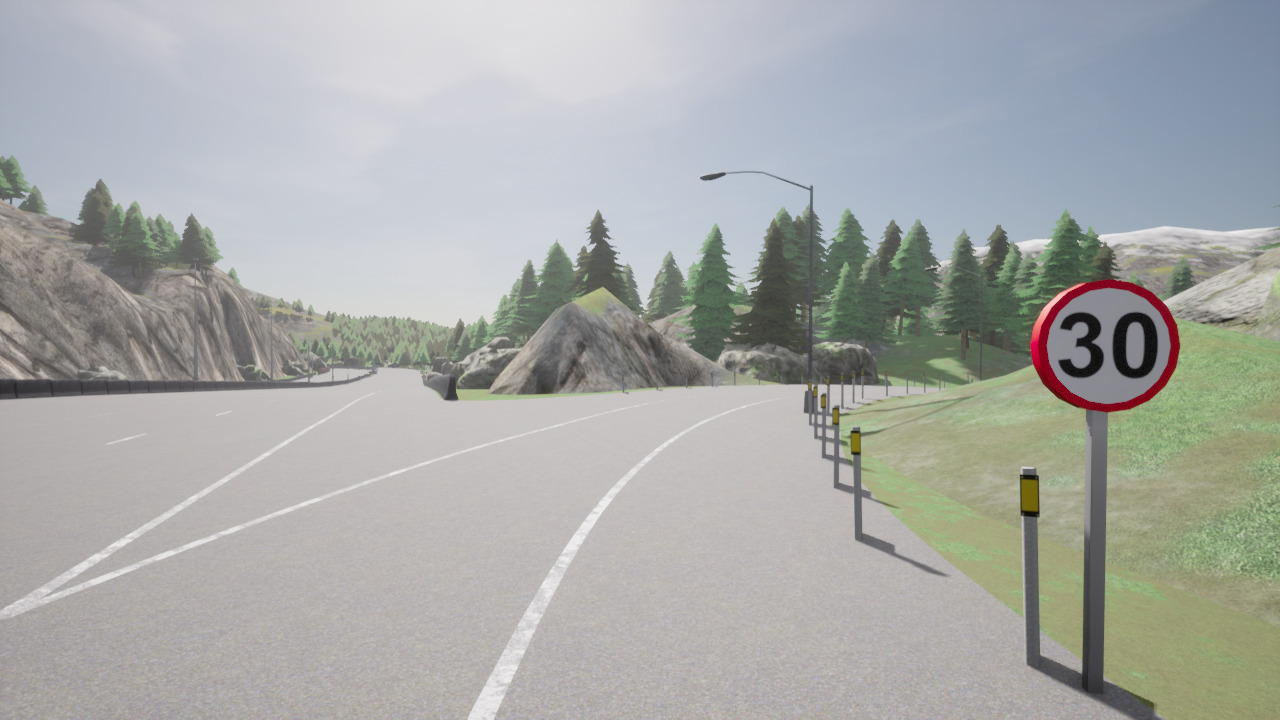sl30: (1029, 278, 1182, 414)
